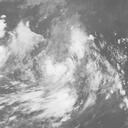cyclone: (33, 55, 81, 104)
